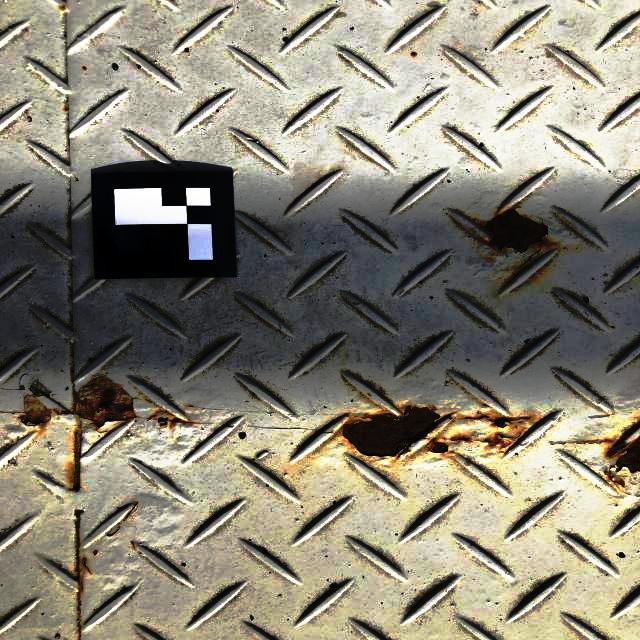Corrosion: (340, 404, 441, 457), (482, 207, 550, 254), (76, 378, 134, 423), (603, 435, 640, 486), (463, 414, 532, 428), (20, 408, 50, 426), (484, 432, 514, 448), (427, 437, 450, 454), (66, 462, 76, 487), (451, 433, 472, 442), (170, 417, 186, 424), (445, 415, 454, 420)
